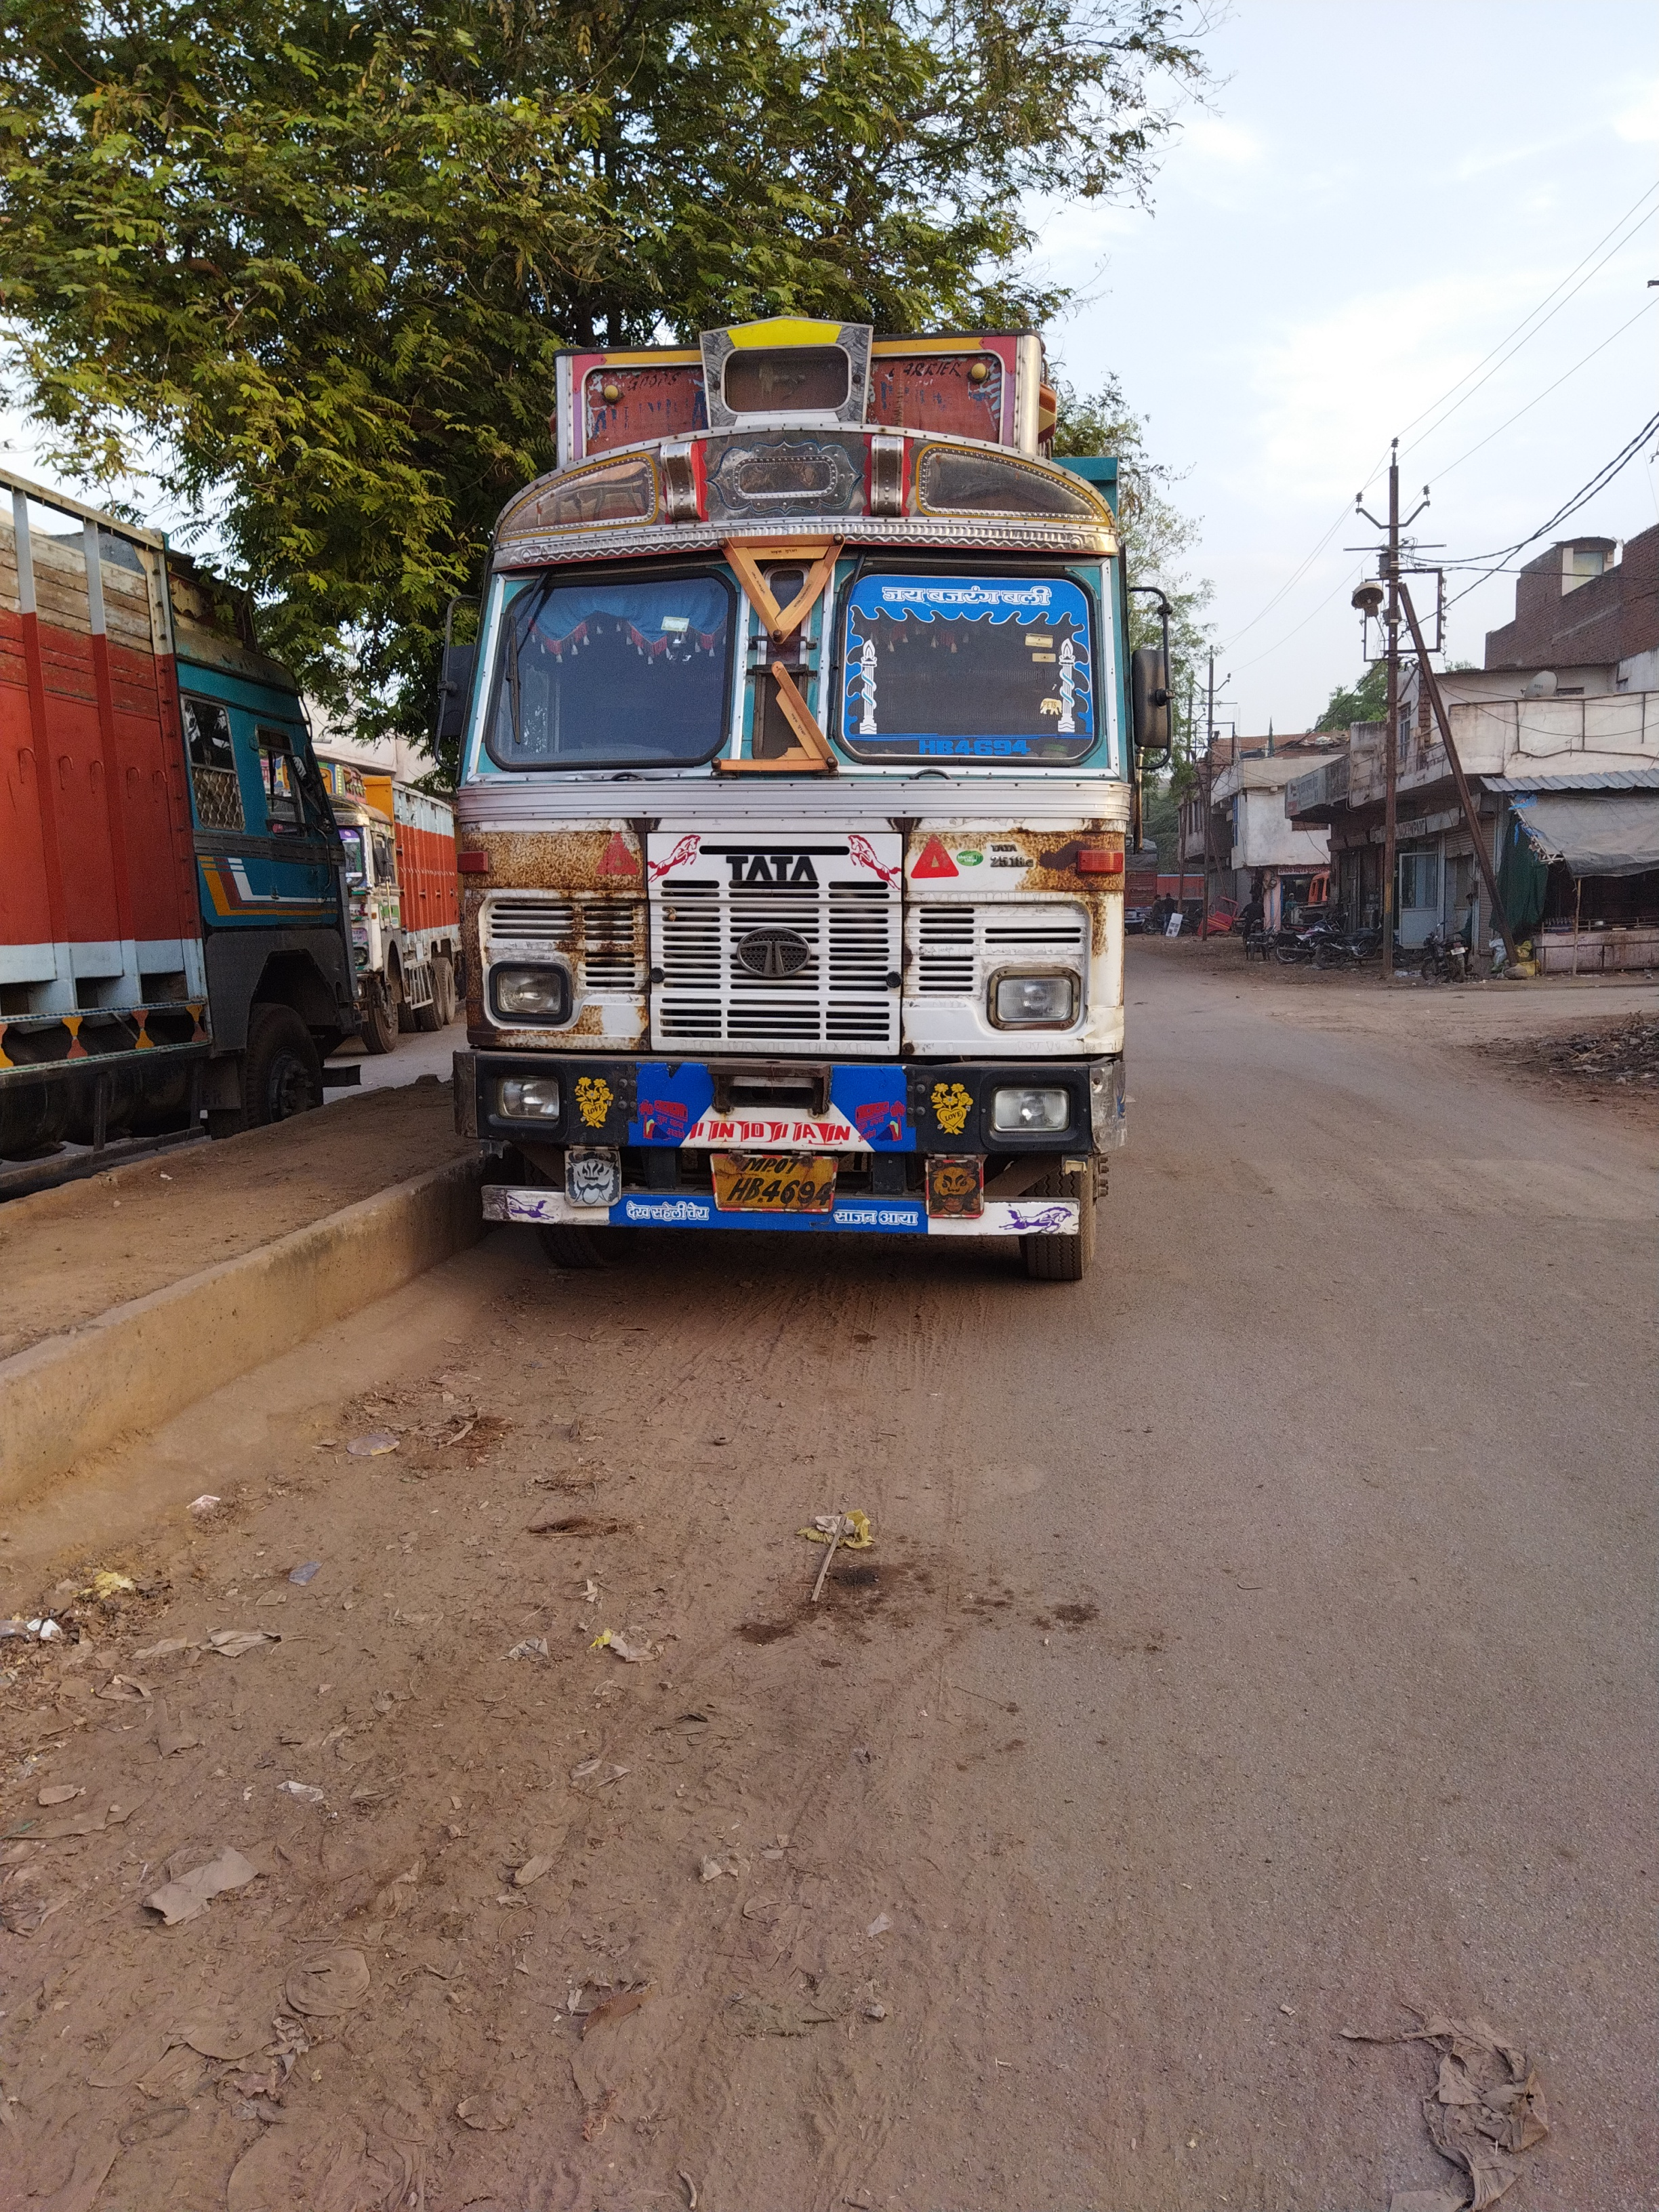truck: (432, 312, 1178, 1284), (0, 455, 362, 1198), (256, 756, 465, 1055), (1124, 838, 1161, 935), (1155, 873, 1204, 911)
